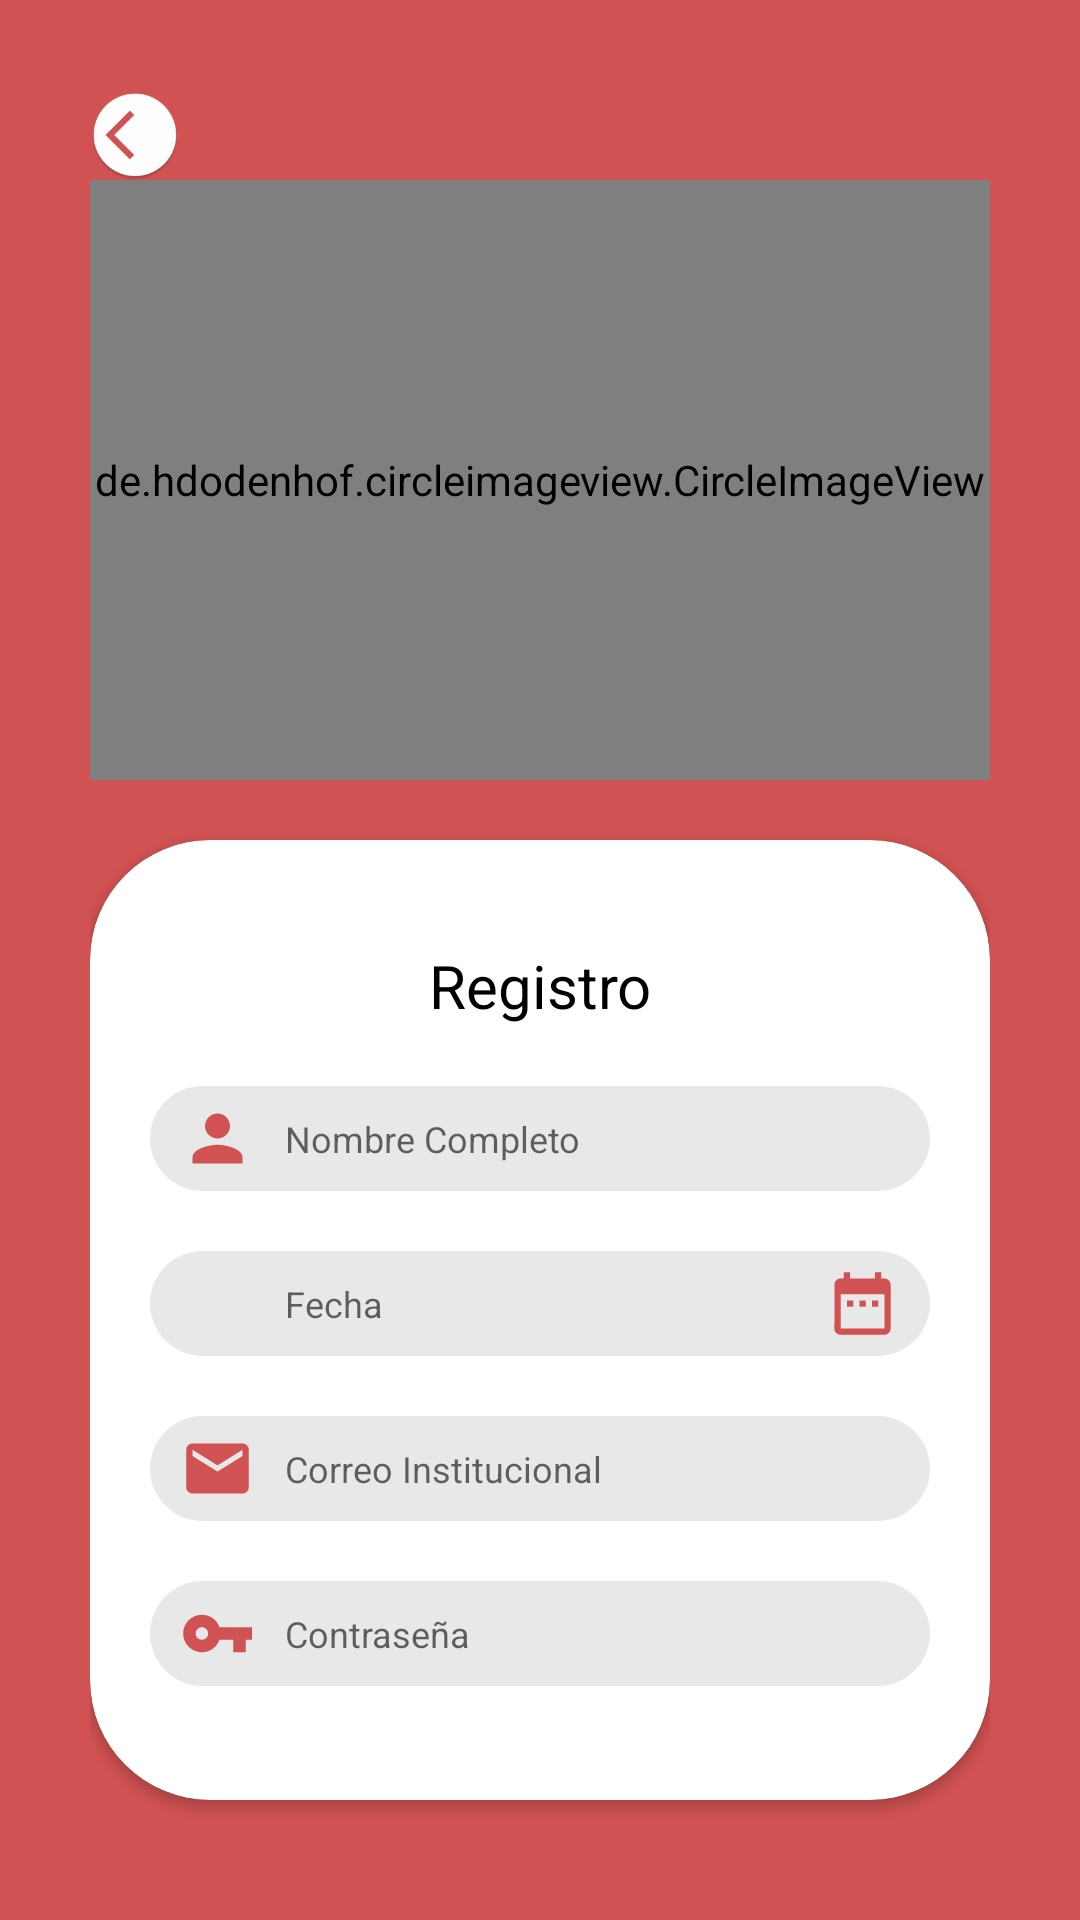

Where to tap for icons on this 1080x1920 app screen, as (x=x, y=y):
back: (x=134, y=135)
calendar: (x=862, y=1303)
email: (x=217, y=1468)
password: (x=217, y=1633)
person: (x=217, y=1138)
